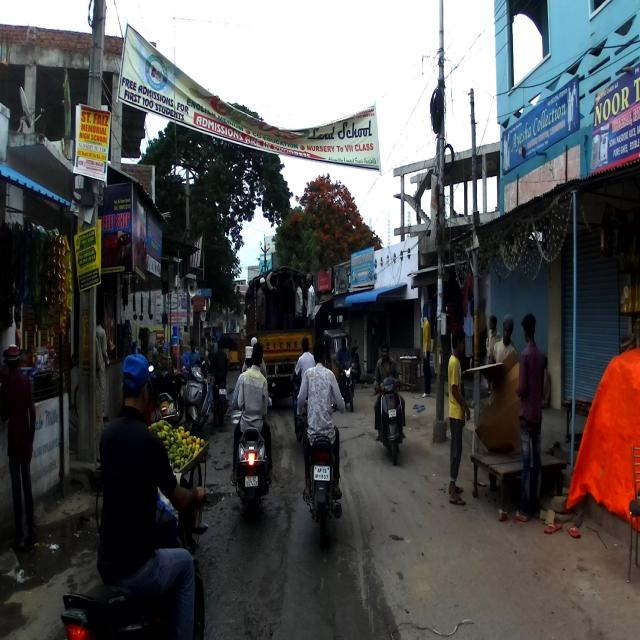motorcycle: (58, 480, 214, 640), (297, 402, 343, 552)
scooter: (232, 384, 276, 524), (147, 357, 188, 429), (374, 376, 406, 466), (186, 363, 211, 437)
truck: (243, 265, 320, 393)
